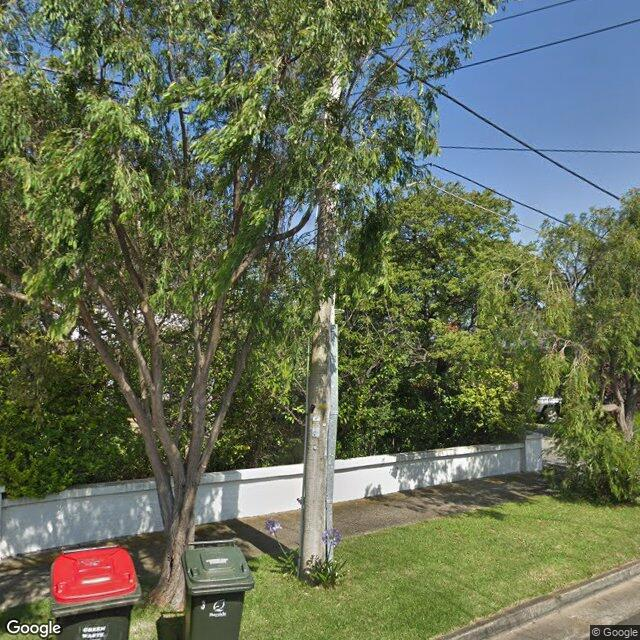timber-pole: (302, 0, 344, 574)
